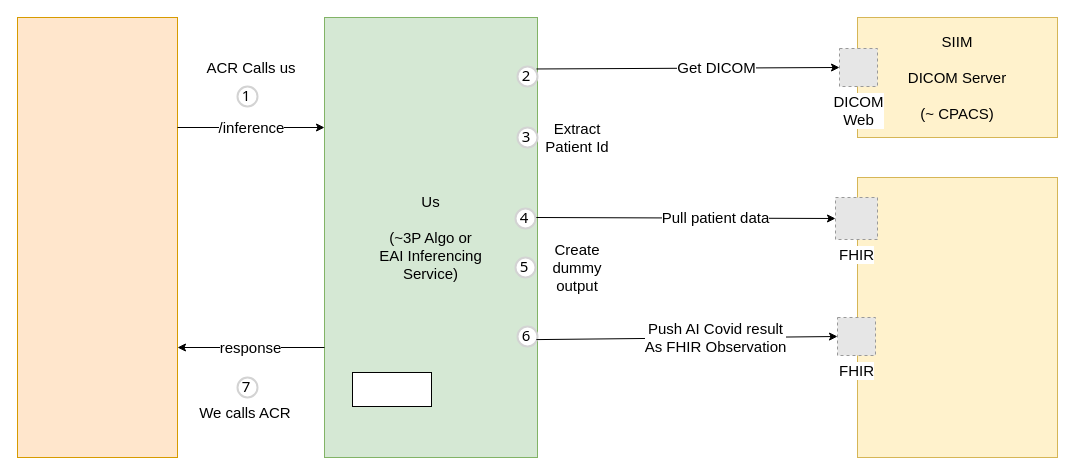
Image size: 1075x475. Some labels were removed from this diagram. Grey dashed boxes stand in for pictures. The shapes that lost their labels are listed below. From the top down, each one's centre as x and y in pixels, then its label:
the point at 97,237: ACR Hackathon Platform (~ AO)
the point at 957,317: SIIM FHIR Server (EMR)
the point at 392,389: PyDICOM
